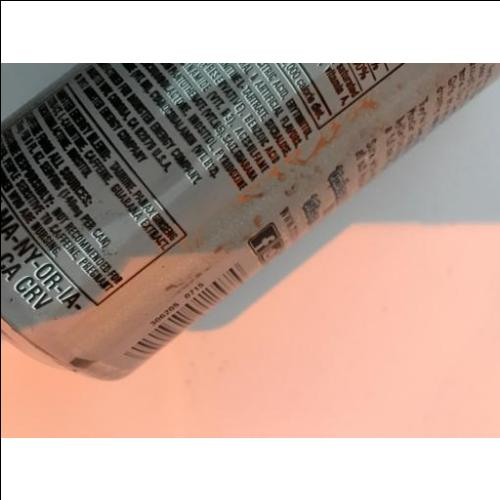metal: (0, 64, 499, 381)
